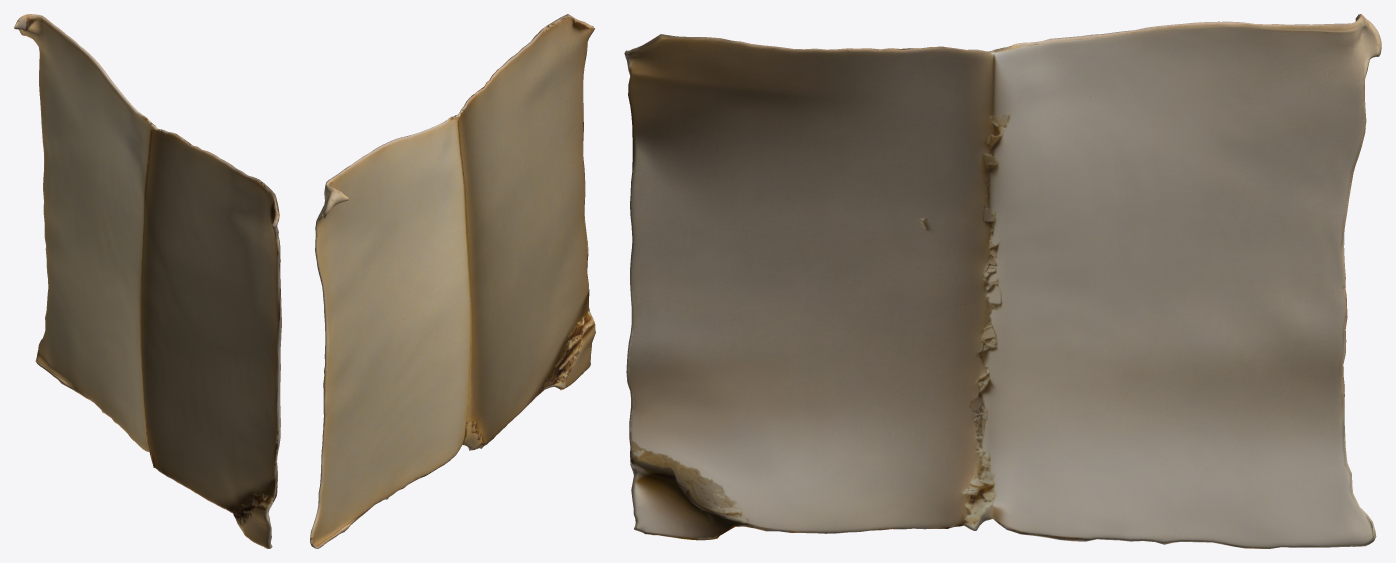
Rendered from Meshy_AI_crumbled_plain_page_0103085721_texture.glb.
3 renders of one model, left to right at view 1: azimuth 30°, elevation 25°; view 2: azimuth 150°, elevation 25°; view 3: azimuth 270°, elevation 25°, orthographic. The views are drawn at different scales.
Size of the model in its own units: 0.1466 by 1.54 by 2.
1 material, 1 textured.
